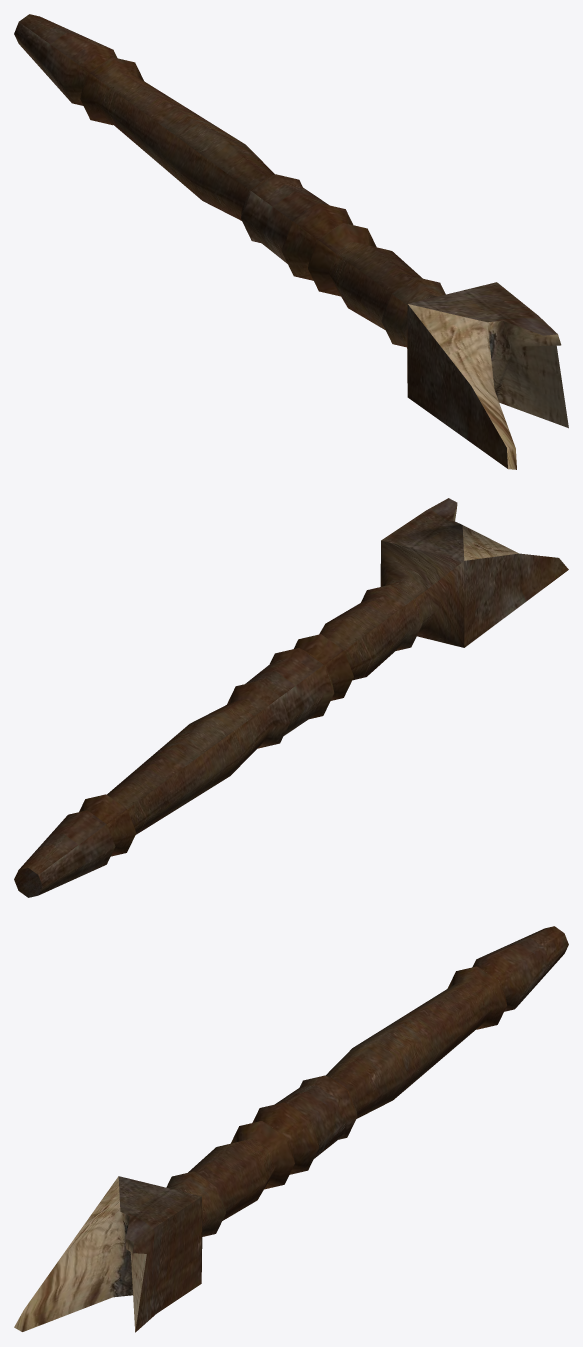
Rendered from furniture_brokentableleg.glb.
3 views of the same model, one above another, from view 1: azimuth 30°, elevation 25°; view 2: azimuth 150°, elevation 25°; view 3: azimuth 330°, elevation 25° (orthographic). The views are drawn at different scales.
Size of the model in its own units: 3.67 by 3.45 by 35.27.
1 material, 1 textured.
